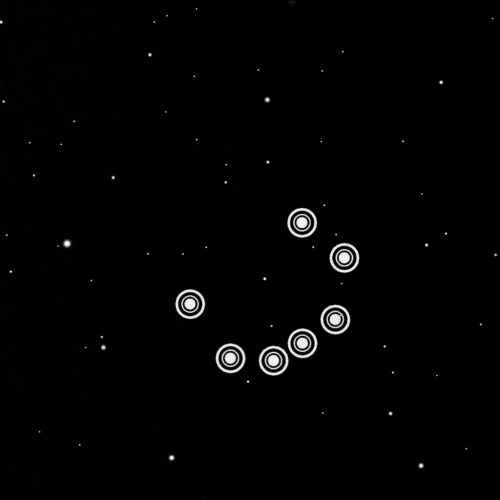corona_borealis: (170, 197, 362, 384)
